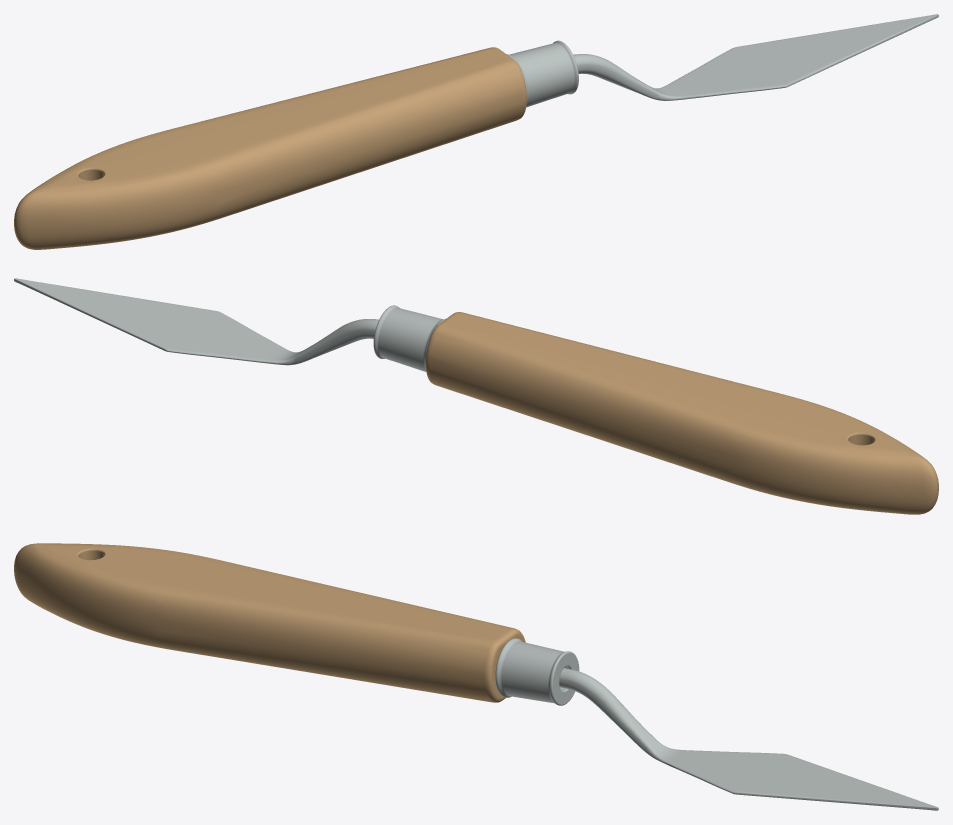
File: paint_supplies_palletknife_a03.glb
The picture shows the model from 3 angles, top to bottom: view 1: azimuth 30°, elevation 25°; view 2: azimuth 150°, elevation 25°; view 3: azimuth 330°, elevation 25°; orthographic projection.
Size of the model in its own units: 0.1652 by 0.014 by 0.0185.
